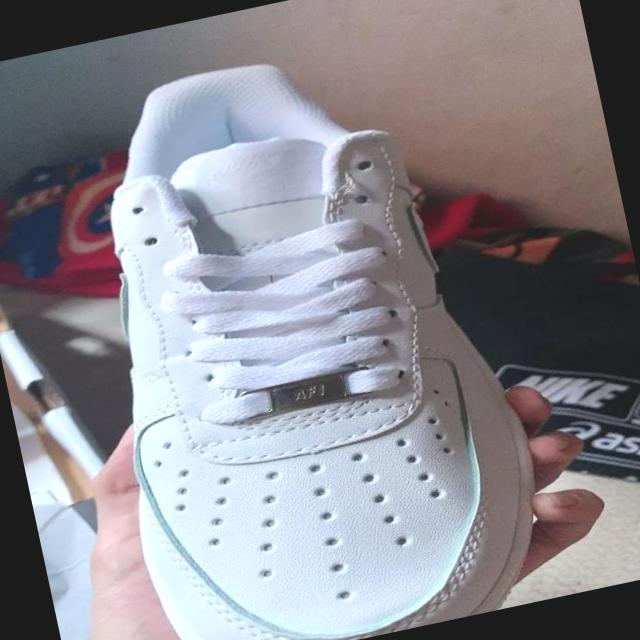nike_fake_airforce: (44, 19, 563, 640)
